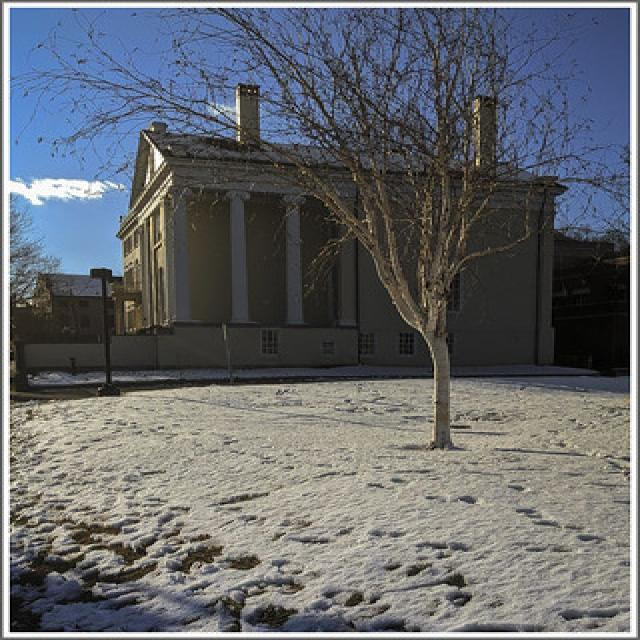building: (109, 79, 565, 372)
